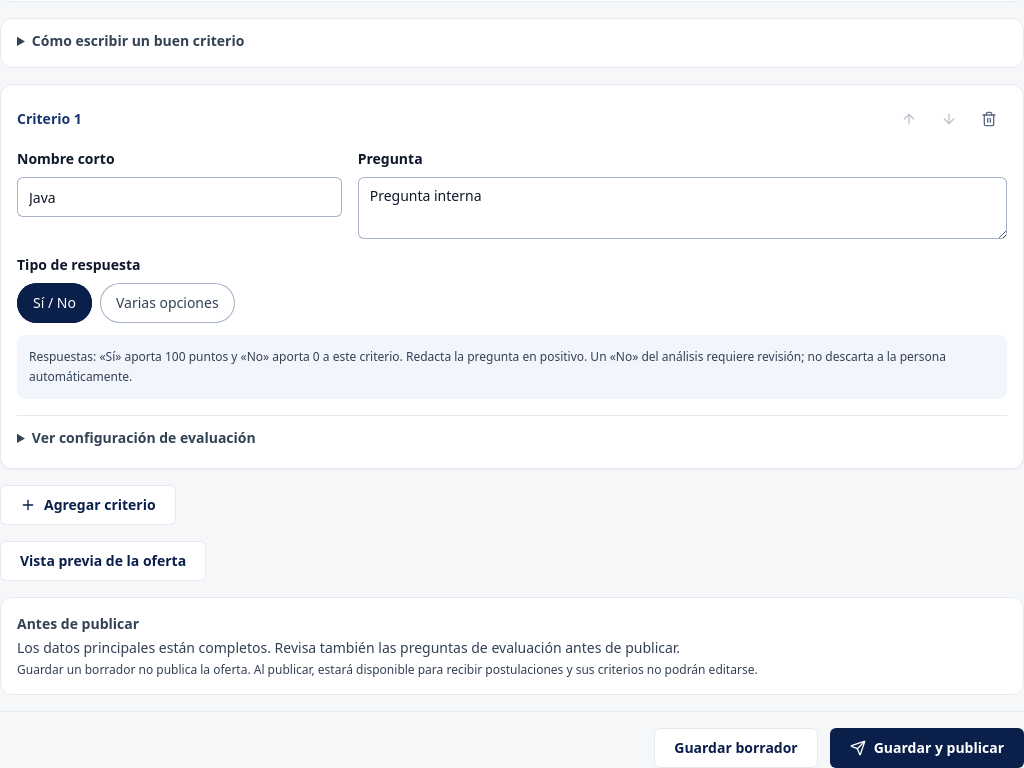
Test: la vista previa muestra los datos públicos sin escribir ni incluir preguntas internas
The width and height of the screenshot is (1024, 768).
(page scrolled)
What coordinates should you click on to do the following:
click the button "Vista previa de la oferta"
I would click on:
 (103, 560)
Its box is [0,540,206,580].
(page scrolled)
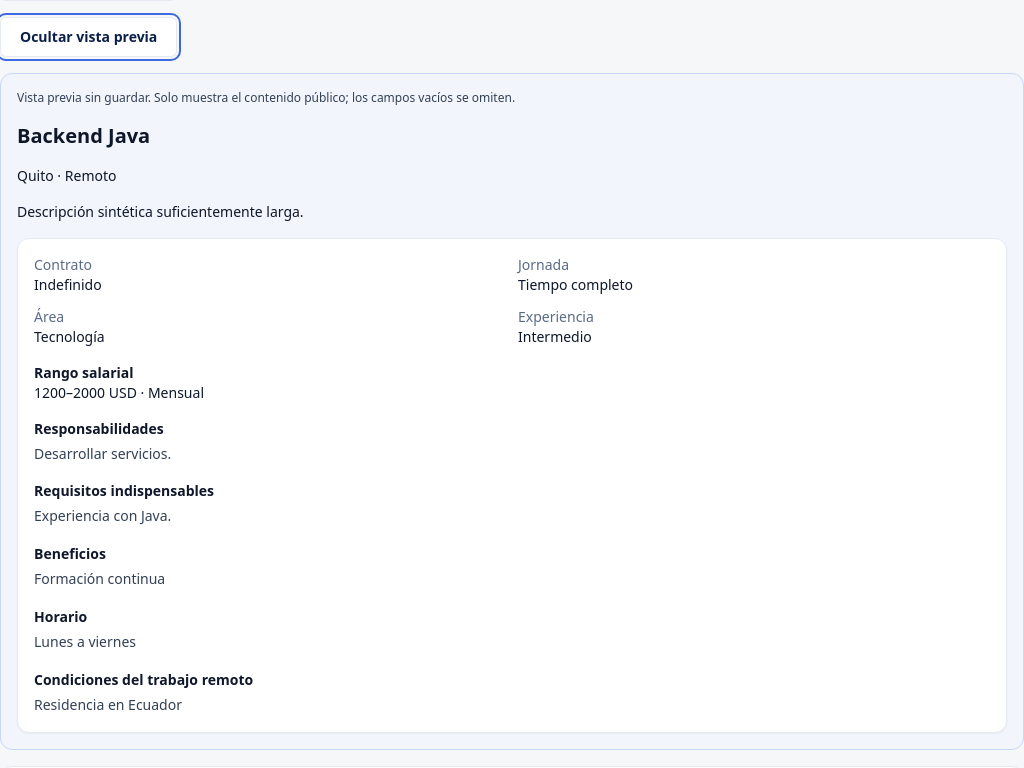
Result: the text "Indefinido" is shown at [34,274,102,294]
Result: the text "Desarrollar servicios." is shown at [34,444,171,462]
Result: the text "1200–2000 USD · Mensual" is shown at [34,382,204,402]
